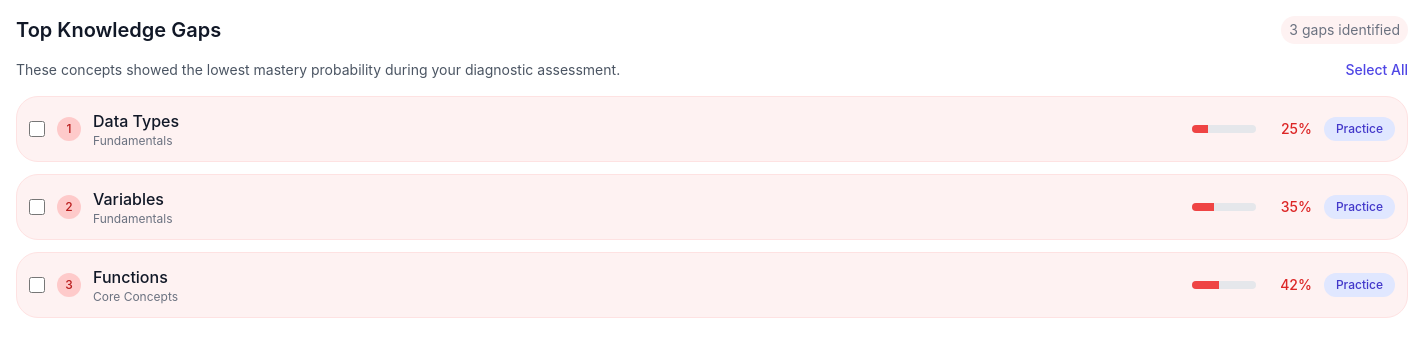
Test: GapHighlights › Practice functionality › deselects all when Deselect All is clicked
Note: First select all
Step 1. Click the button "Select All" → (1377, 70), box left=1345, top=60, right=1408, bottom=80
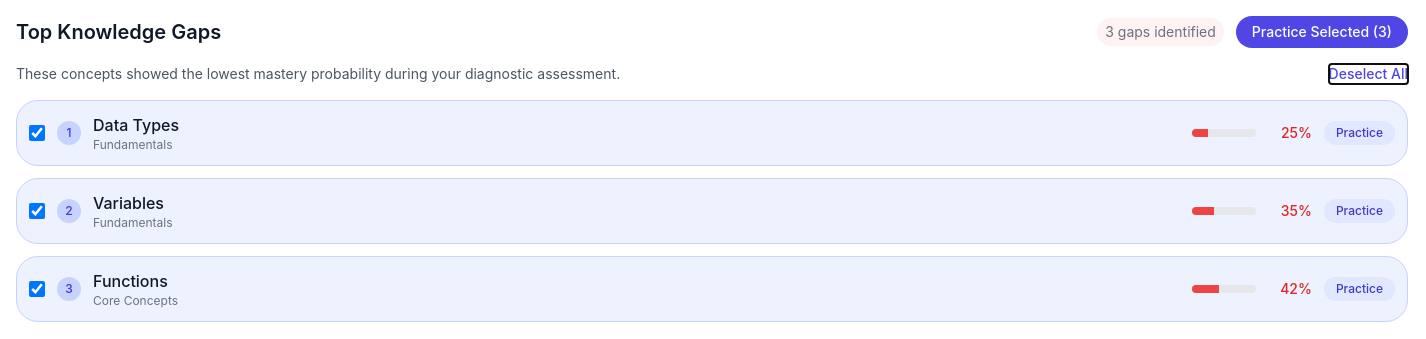
Note: Then deselect all
Step 2. Click the button "Deselect All" → (1368, 74), box left=1329, top=64, right=1408, bottom=84
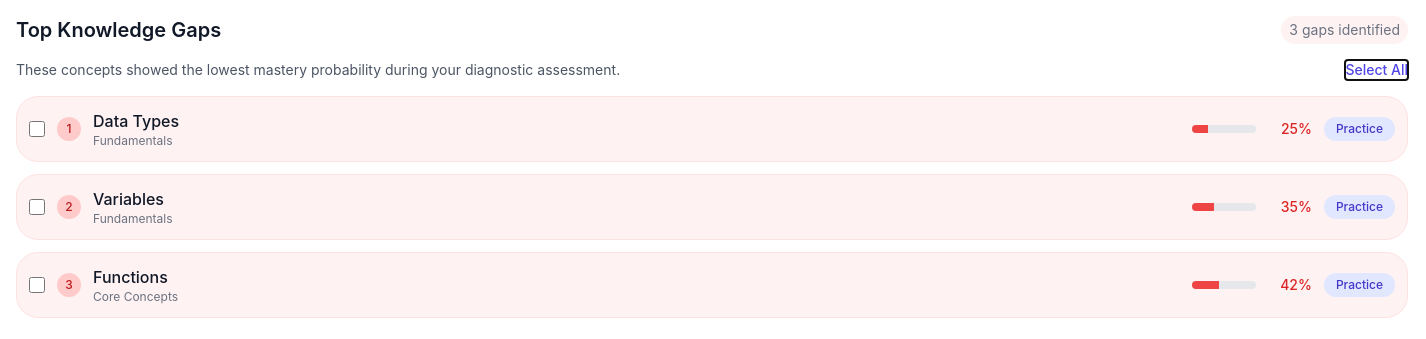
Expected: the checkbox named "Select Data Types for practice" is not checked, left=29, top=121, right=45, bottom=137
Expected: the checkbox named "Select Variables for practice" is not checked, left=29, top=199, right=45, bottom=215
Expected: the checkbox named "Select Functions for practice" is not checked, left=29, top=277, right=45, bottom=293
